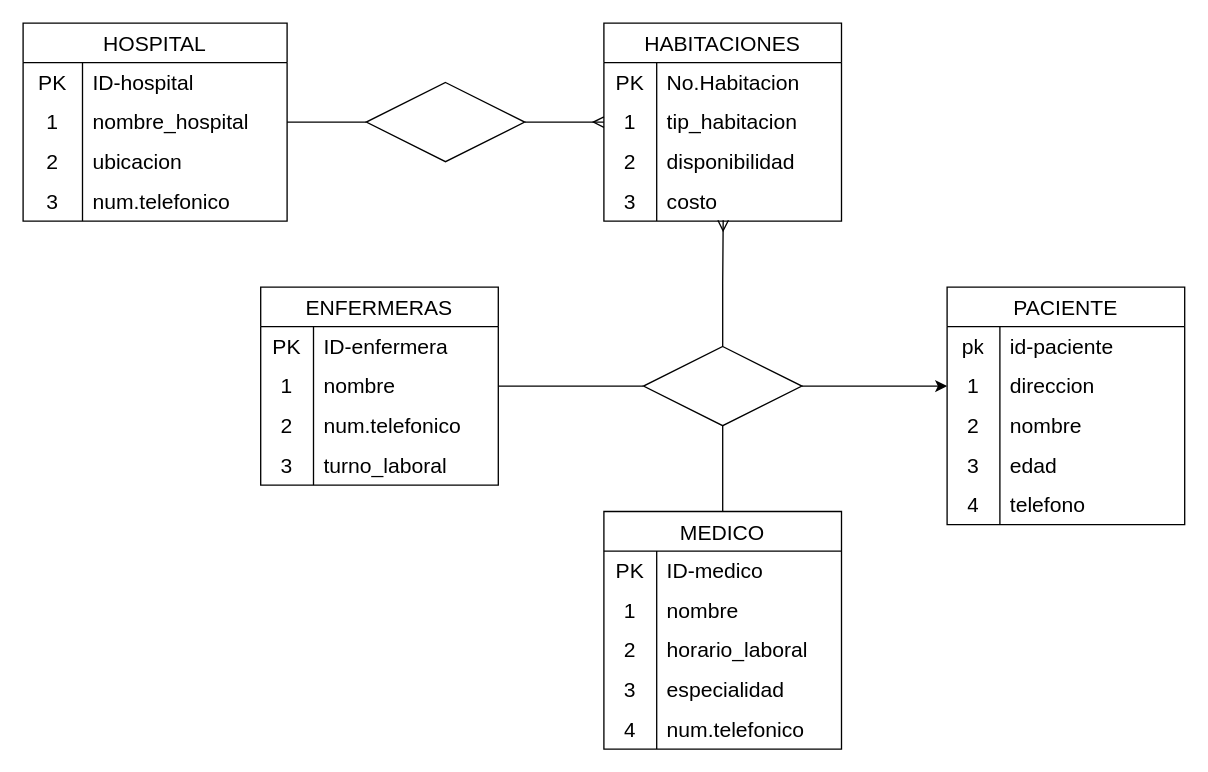
Image size: 1208x772. Some labels were removed from this diagram. The centre of each missing label's shape, as x and y in pixels:
"contiene" belongs at pixel 722 385.
"tiene" belongs at pixel 445 121.
